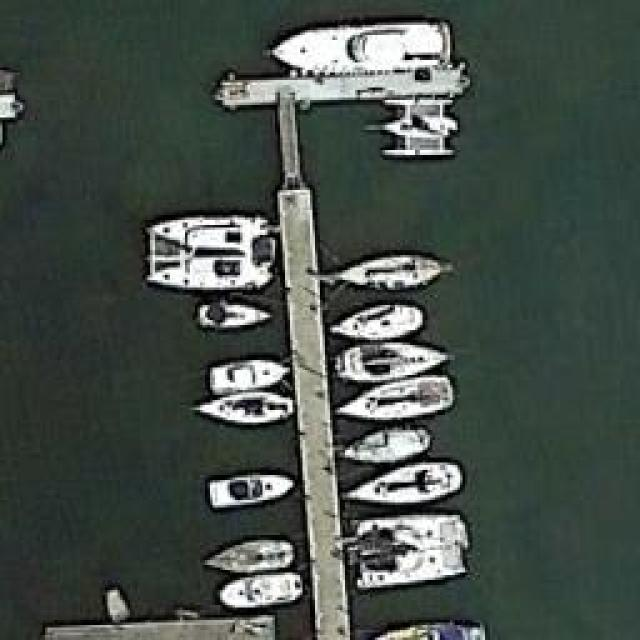Port: (2, 2, 640, 640)
